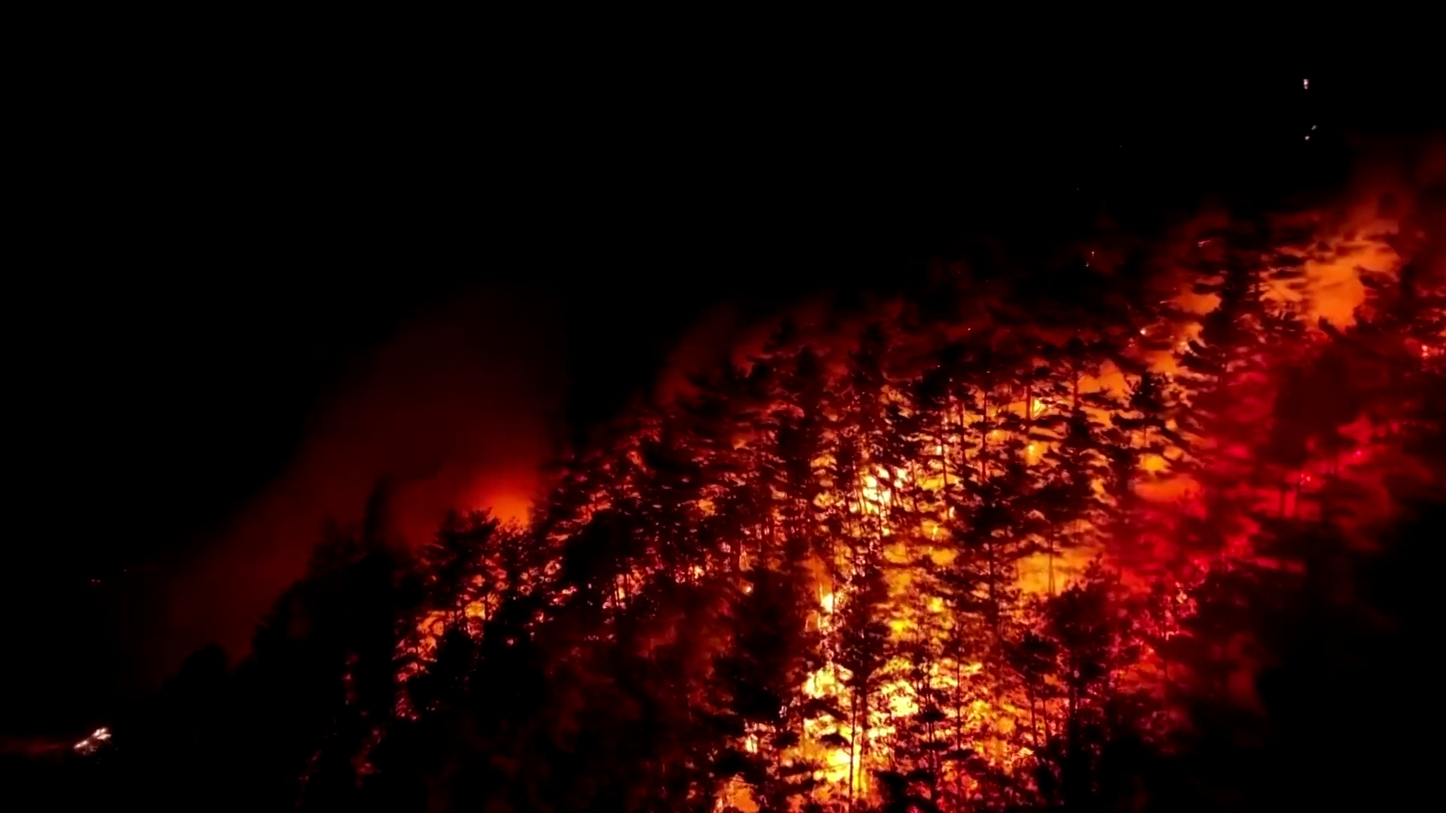forest_fire: (413, 222, 1445, 812)
